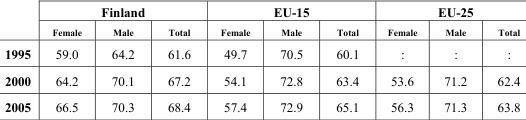table: (3, 3, 519, 114)
table column: (204, 3, 264, 114), (372, 3, 429, 114), (40, 3, 95, 114), (95, 3, 150, 114), (150, 3, 204, 114), (264, 3, 318, 114), (318, 3, 372, 114), (429, 3, 481, 114), (481, 3, 519, 114), (3, 3, 40, 114)
table column header: (3, 3, 519, 41)
table row: (3, 41, 519, 67), (3, 67, 519, 93), (3, 93, 519, 114), (3, 3, 519, 22), (3, 22, 519, 41)
table spanning cell: (204, 3, 372, 22), (40, 3, 204, 22), (372, 3, 519, 22)
